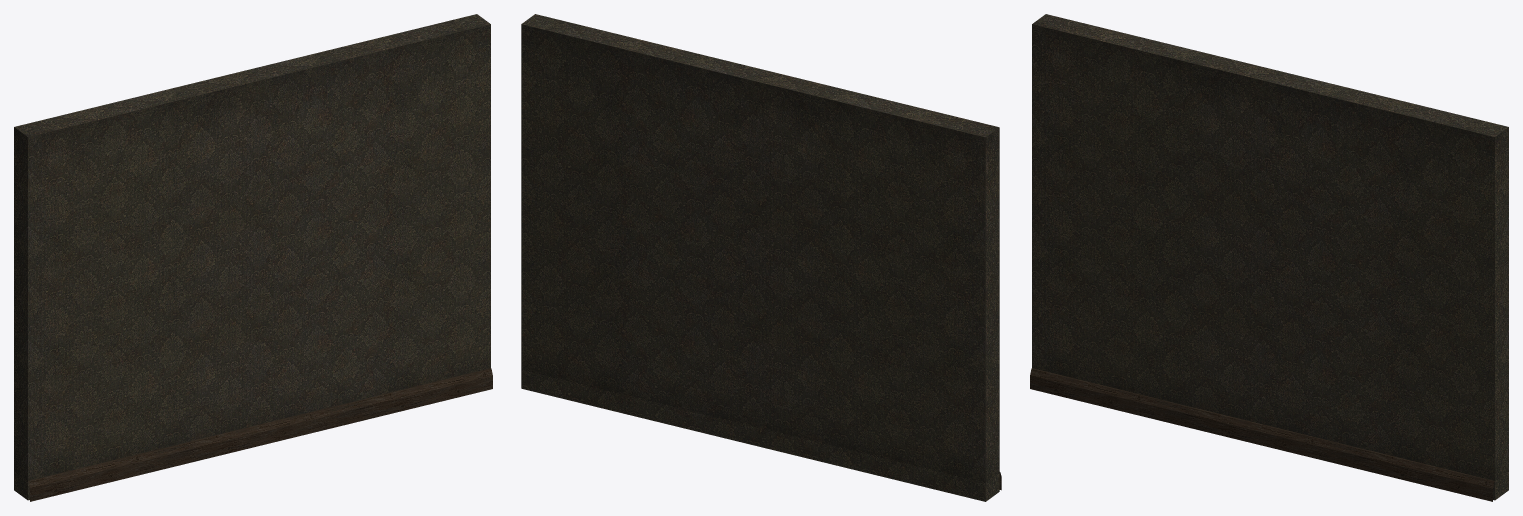
The model's file is 3D_wall.glb.
The picture shows the model from 3 angles, left to right: view 1: azimuth 30°, elevation 25°; view 2: azimuth 150°, elevation 25°; view 3: azimuth 330°, elevation 25°; orthographic projection.
Parts seen in each view (by area): view 1: wall_2_1.001; view 2: wall_2_1.001; view 3: wall_2_1.001.
Boxes of the visible parts, x1,y1,x2,y2 form: wall_2_1.001: [14, 14, 492, 501]; wall_2_1.001: [521, 14, 1001, 501]; wall_2_1.001: [1030, 14, 1508, 501].
Size of the model in its own units: 4 by 3 by 0.2378.
2 materials, 2 textured.
